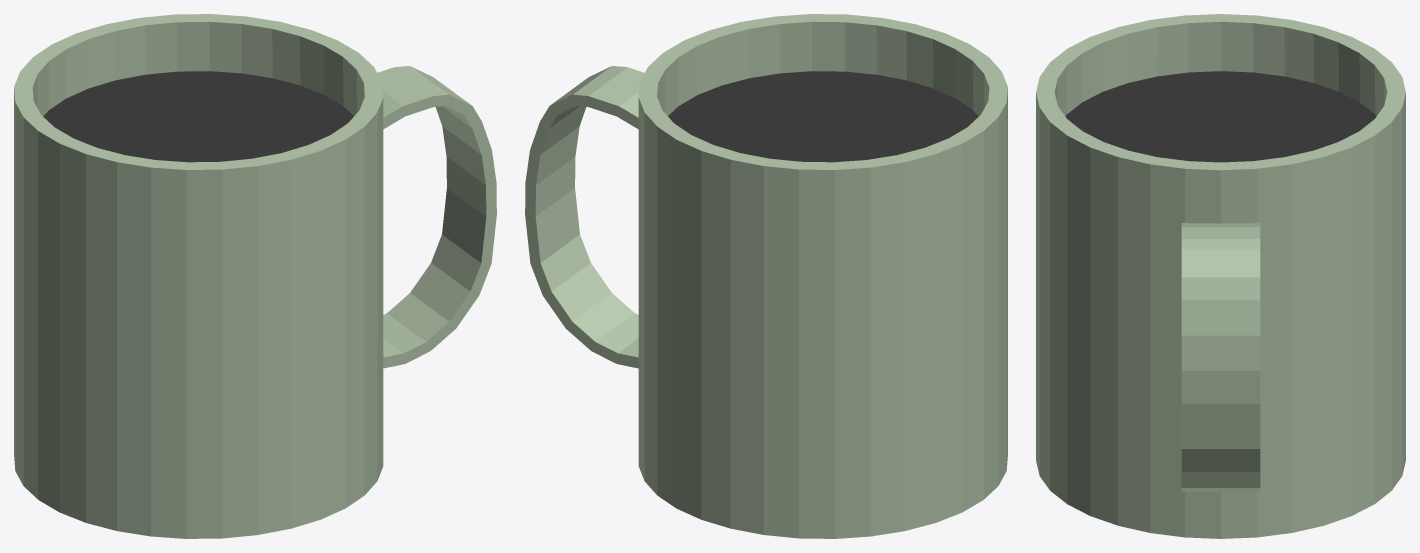
Rendered from low_poly_mug.glb.
3 views of the same model, side by side, from view 1: azimuth 30°, elevation 25°; view 2: azimuth 150°, elevation 25°; view 3: azimuth 270°, elevation 25° (orthographic).
Parts seen in each view (by area): view 1: Cylinder, Circle, Plane; view 2: Cylinder, Circle, Plane; view 3: Cylinder, Plane, Circle.
Part boxes in pixels (x1,y1,x2,y2): Cylinder: (14,14,383,538); Circle: (43,71,353,162); Plane: (377,66,496,368); Cylinder: (638,14,1007,538); Circle: (668,71,978,162); Plane: (525,66,644,368); Cylinder: (1036,14,1405,538); Plane: (1181,223,1260,491); Circle: (1065,71,1376,162).
Size of the model in its own units: 2.49 by 2 by 1.82.
